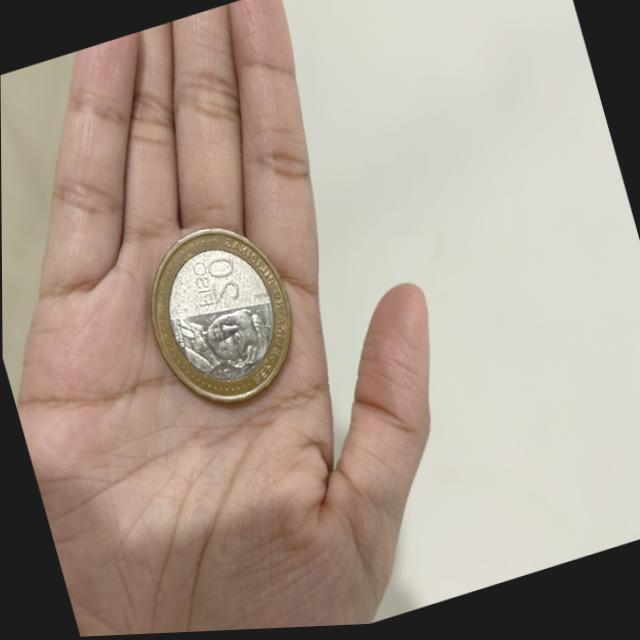20_New_Front: (171, 243, 248, 330)
